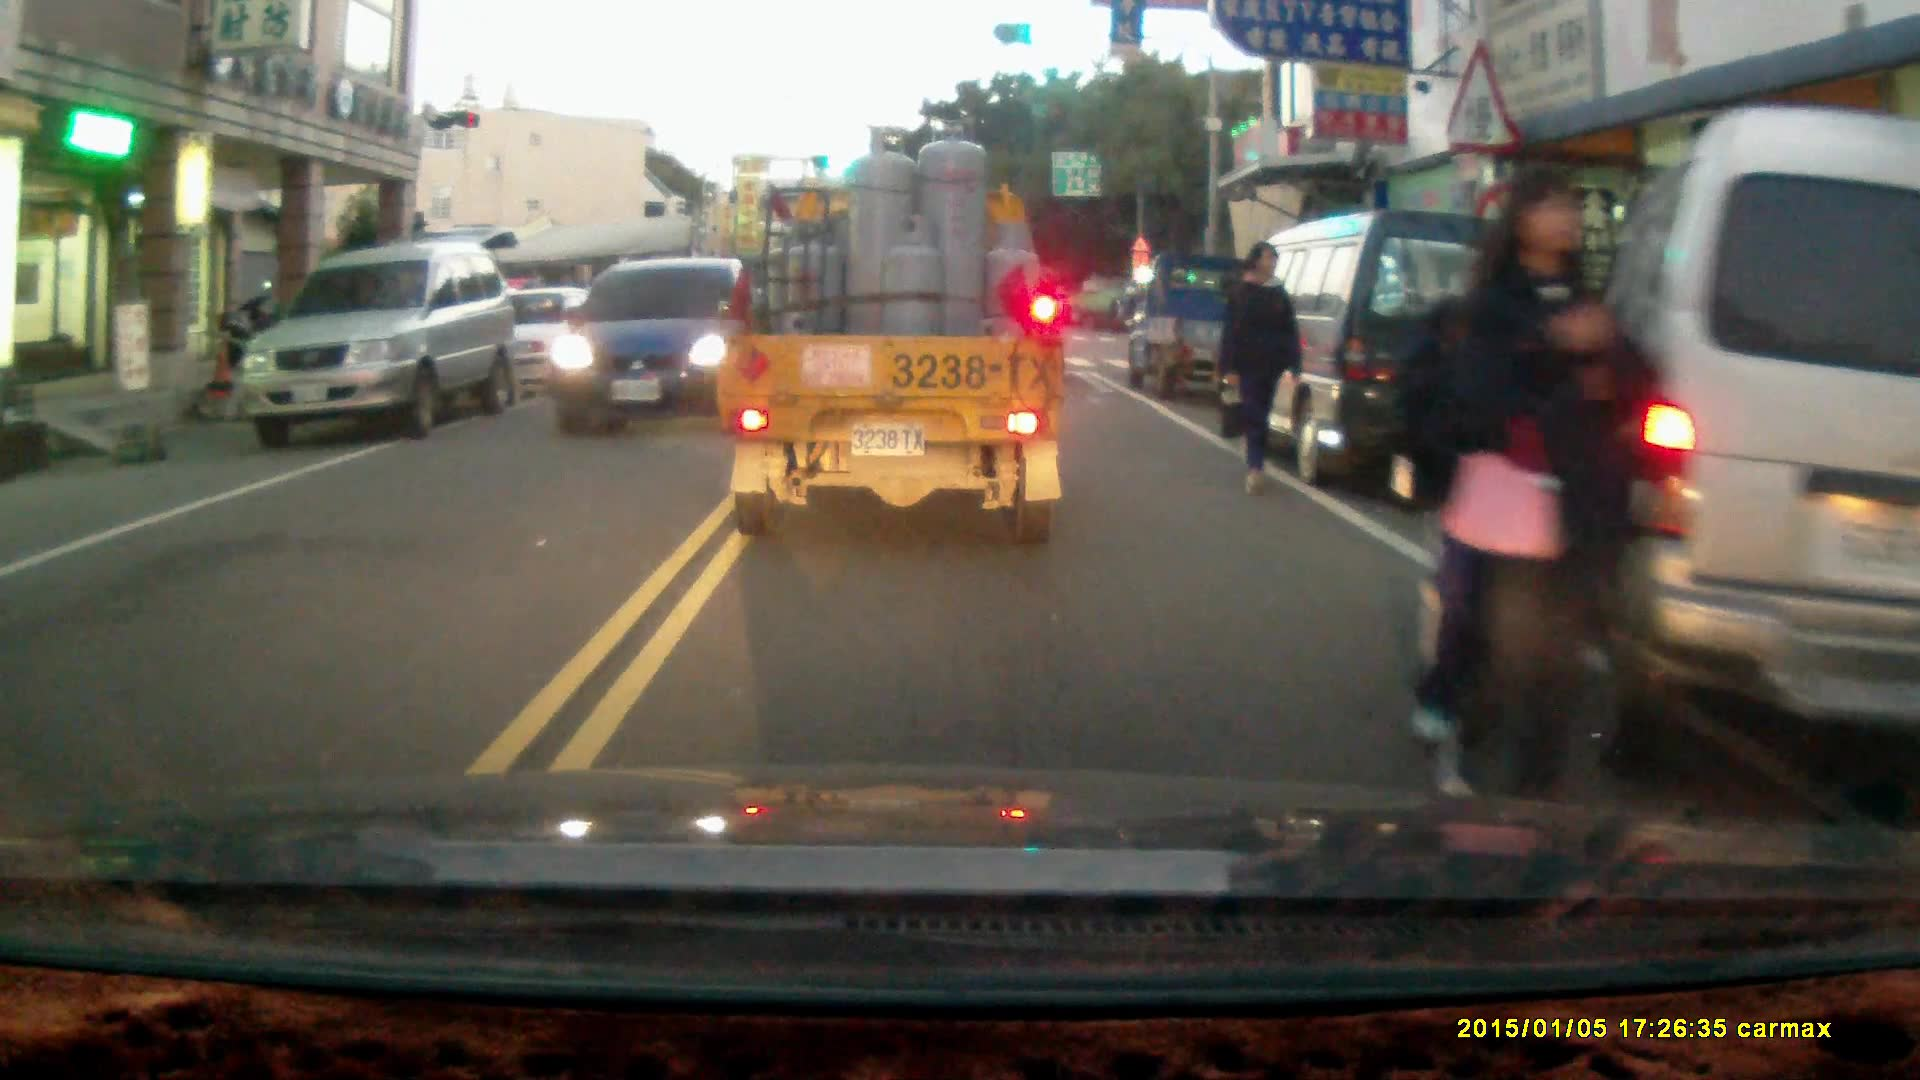pedestrian: (1470, 160, 1669, 816), (1216, 235, 1307, 494)
vehicle: (1573, 107, 1920, 773), (714, 124, 1067, 537), (1220, 206, 1569, 506), (244, 244, 521, 450), (545, 260, 779, 433), (450, 286, 614, 405), (1123, 250, 1244, 399)
